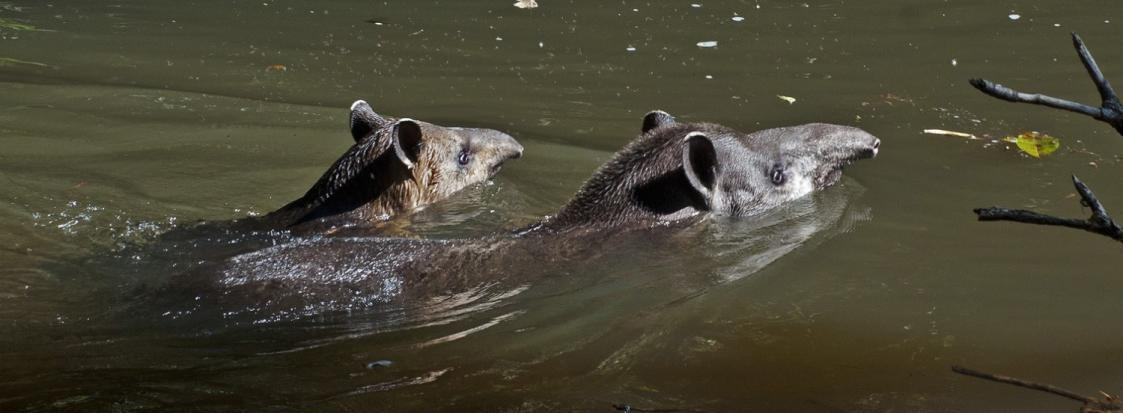Anta: (568, 95, 893, 233), (234, 93, 536, 240)
